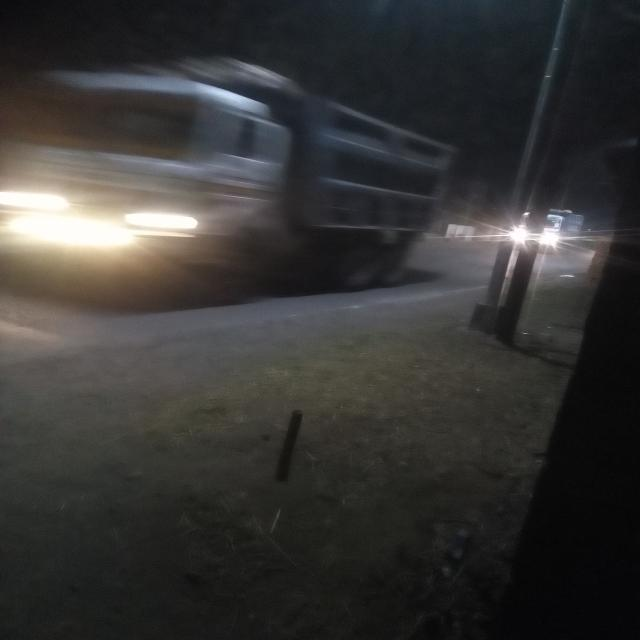Truck: (0, 58, 484, 302), (512, 194, 620, 264)
